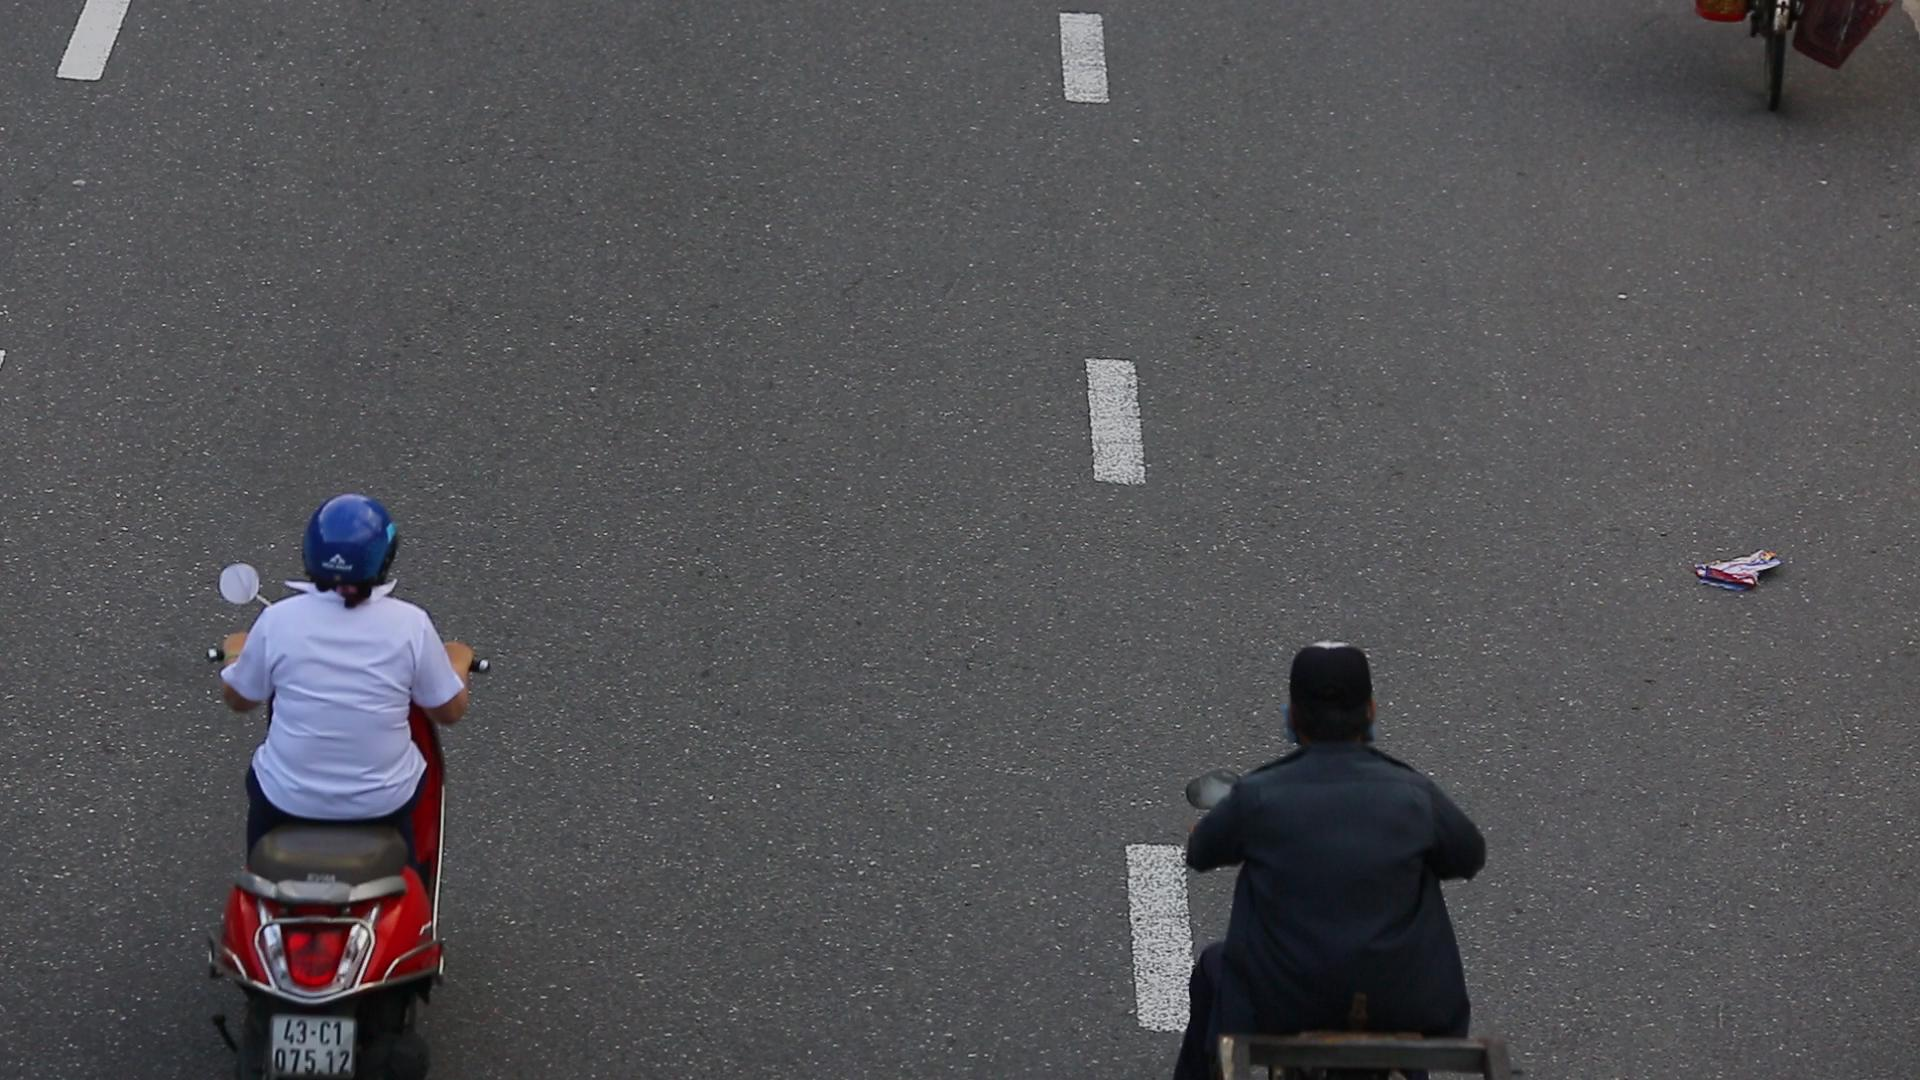motobike: (191, 465, 513, 1080)
